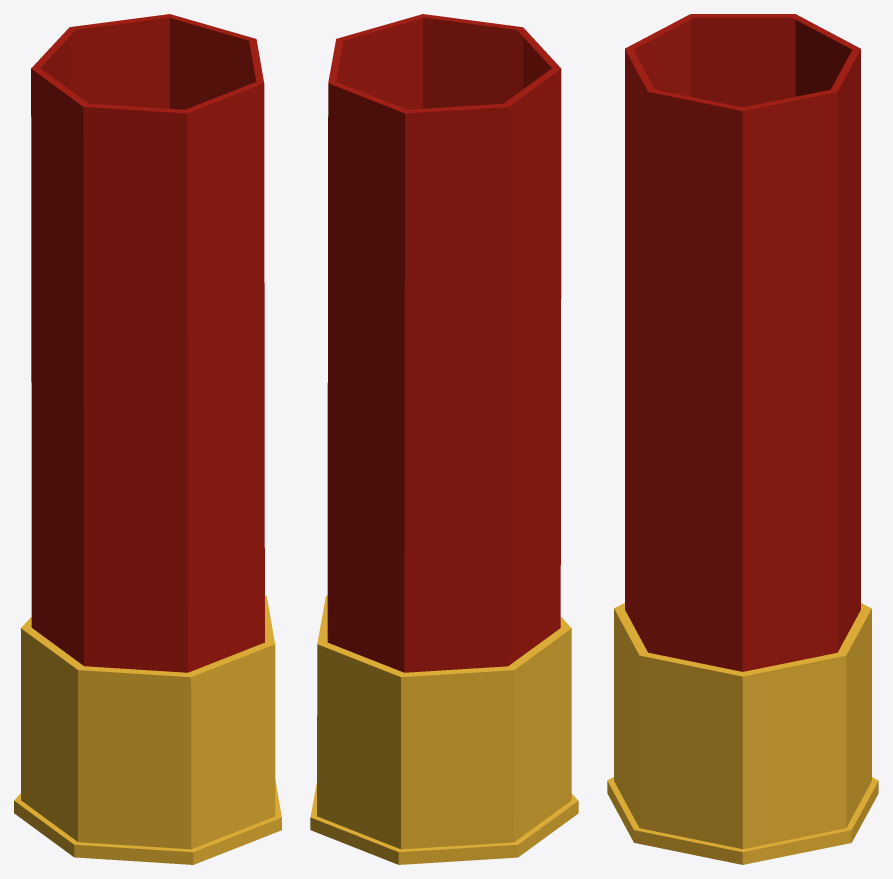
The model's file is 12 Gauge.fbx.
3 renders of one model, left to right at view 1: azimuth 30°, elevation 25°; view 2: azimuth 150°, elevation 25°; view 3: azimuth 270°, elevation 25°, orthographic.
Parts seen in each view (by area): view 1: Bullet.000; view 2: Bullet.000; view 3: Bullet.000.
Part boxes in pixels (<box>): Bullet.000: <box>14,14,281,864</box>; Bullet.000: <box>310,14,578,864</box>; Bullet.000: <box>607,14,878,864</box>.
Size of the model in its own units: 13.64 by 42.42 by 13.99.
